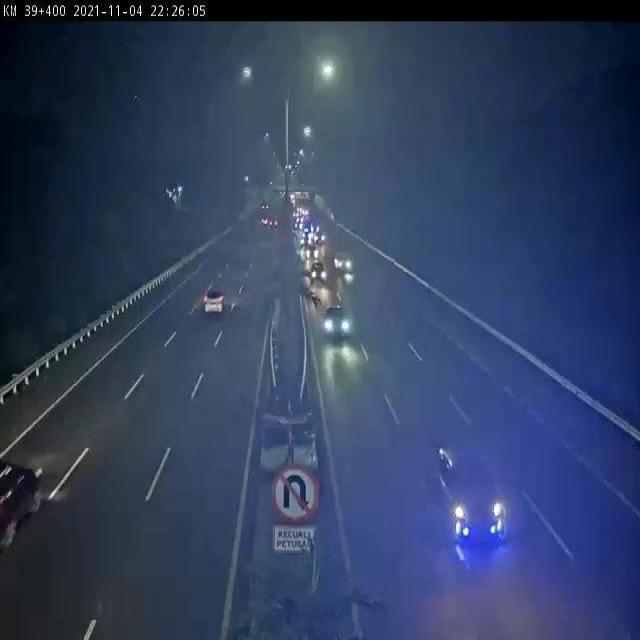car: (428, 436, 522, 576), (0, 443, 55, 556), (195, 276, 235, 323), (323, 299, 356, 355), (308, 256, 324, 289)
